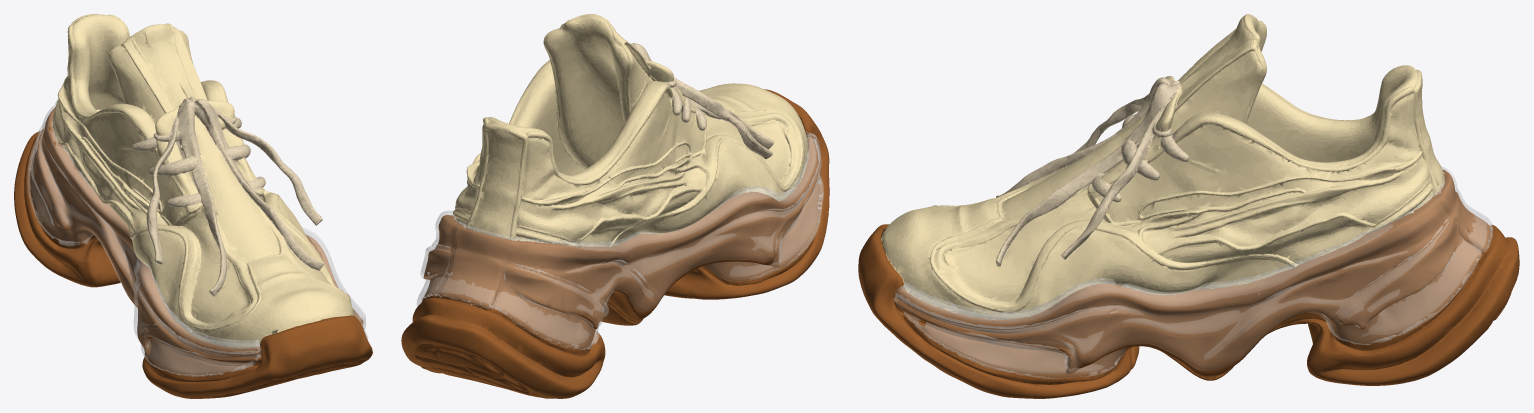
3 renders of one model, left to right at view 1: azimuth 30°, elevation 25°; view 2: azimuth 150°, elevation 25°; view 3: azimuth 270°, elevation 25°, orthographic. The views are drawn at different scales.
Visible parts, largest first — view 1: body, sole, plastic, laces; view 2: body, sole, plastic, laces; view 3: body, sole, plastic, laces.
Boxes of the visible parts, bbox=[...] form: body: bbox=[52, 14, 353, 347]; sole: bbox=[14, 107, 372, 398]; plastic: bbox=[27, 100, 367, 376]; laces: bbox=[131, 96, 323, 296]; body: bbox=[453, 14, 809, 246]; sole: bbox=[401, 89, 829, 398]; plastic: bbox=[417, 131, 823, 349]; laces: bbox=[610, 43, 774, 159]; body: bbox=[881, 14, 1444, 319]; sole: bbox=[858, 169, 1519, 398]; plastic: bbox=[894, 167, 1492, 378]; laces: bbox=[996, 77, 1189, 266].
Size of the model in its own units: 1.86 by 2.55 by 4.64.
4 materials, 2 textured.
